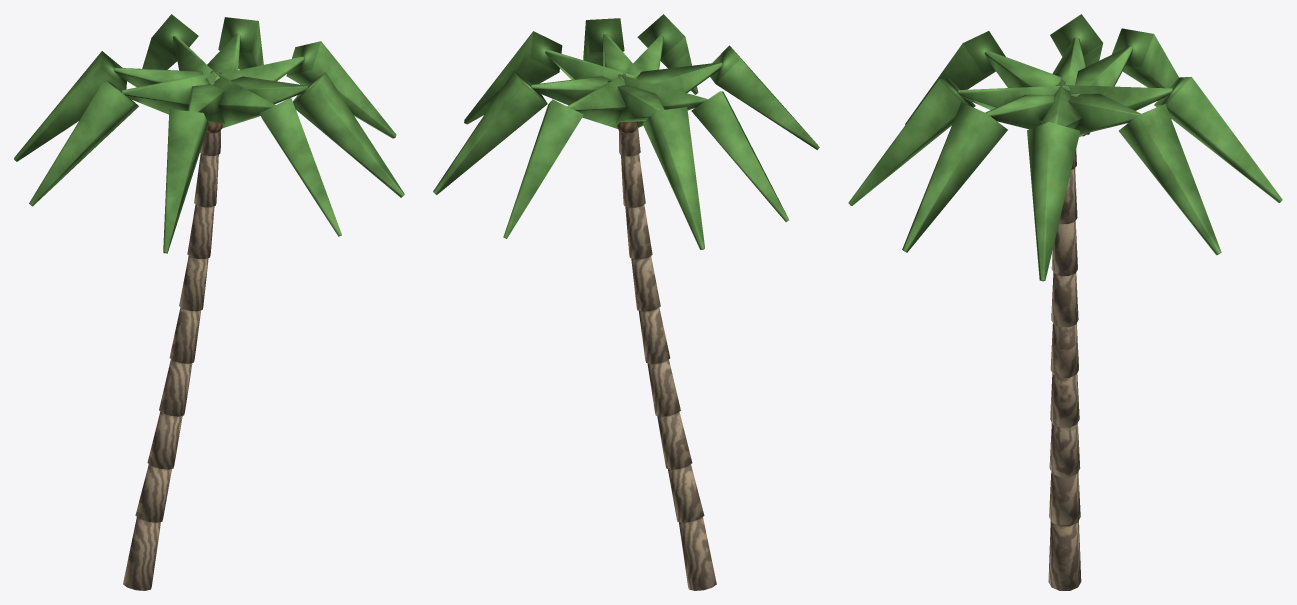
The model's file is palm.glb.
3 views of the same model, side by side, from view 1: azimuth 30°, elevation 25°; view 2: azimuth 150°, elevation 25°; view 3: azimuth 270°, elevation 25° (orthographic). The views are drawn at different scales.
Parts seen in each view (by area): view 1: Palm; view 2: Palm; view 3: Palm.
Part boxes in pixels (x1,y1,x2,y2): Palm: [14, 14, 404, 590]; Palm: [433, 14, 819, 590]; Palm: [848, 14, 1282, 590].
Size of the model in its own units: 7.23 by 10.16 by 7.18.
Materials: 3 (3 with a texture image).
